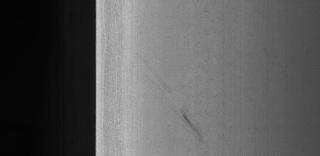silk spot: (188, 8, 258, 96)
water spot: (175, 105, 213, 147)
